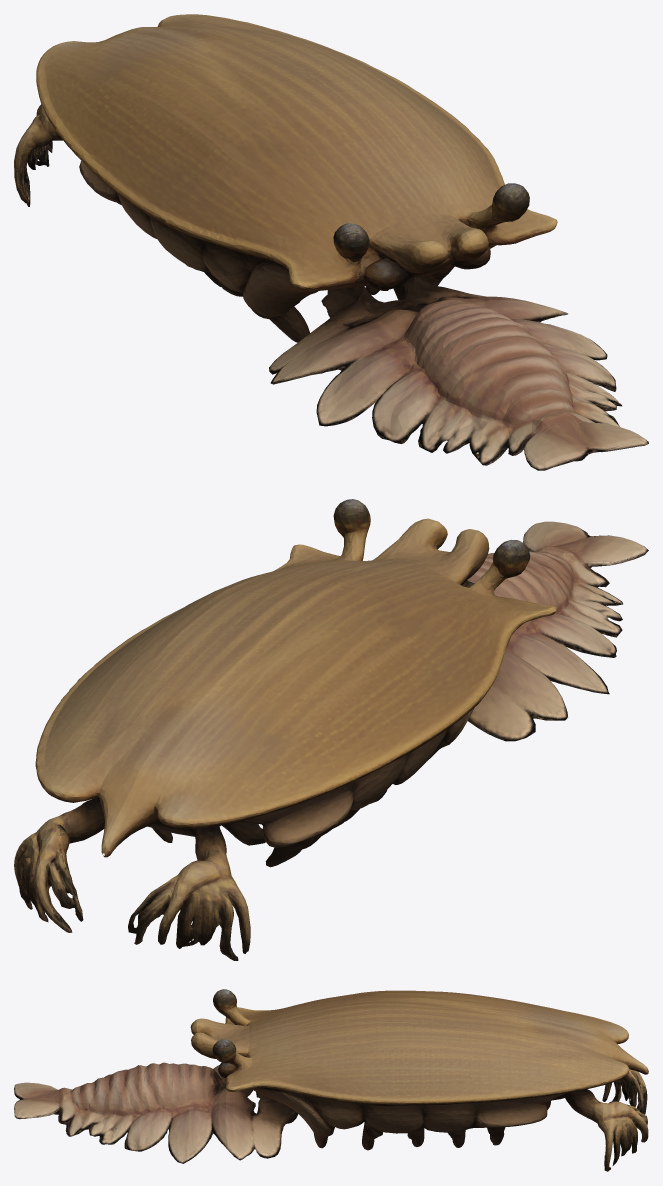
3 renders of one model, top to bottom at view 1: azimuth 30°, elevation 25°; view 2: azimuth 150°, elevation 25°; view 3: azimuth 270°, elevation 25°, orthographic. The views are drawn at different scales.
Parts seen in each view (by area): view 1: world; view 2: world; view 3: world.
Boxes of the visible parts, left/top/right/bottom form: world: left=14, top=14, right=648, bottom=470; world: left=14, top=499, right=648, bottom=960; world: left=14, top=989, right=648, bottom=1171.
Bounding box in the file's own units: 0.3836 × 0.23 × 1.
Materials: 1 (1 with a texture image).
